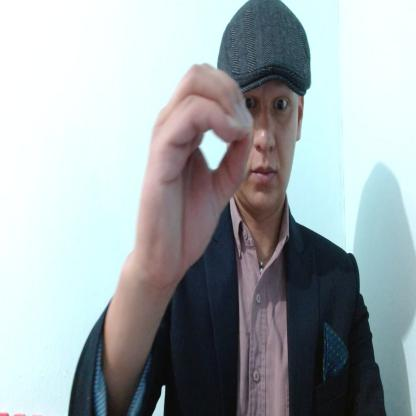O: (135, 57, 257, 282)
